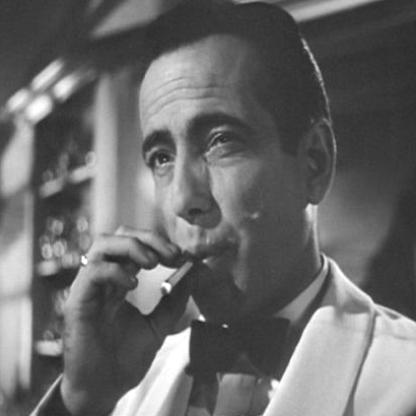cigarette: (160, 256, 194, 298)
person: (82, 1, 415, 415)
